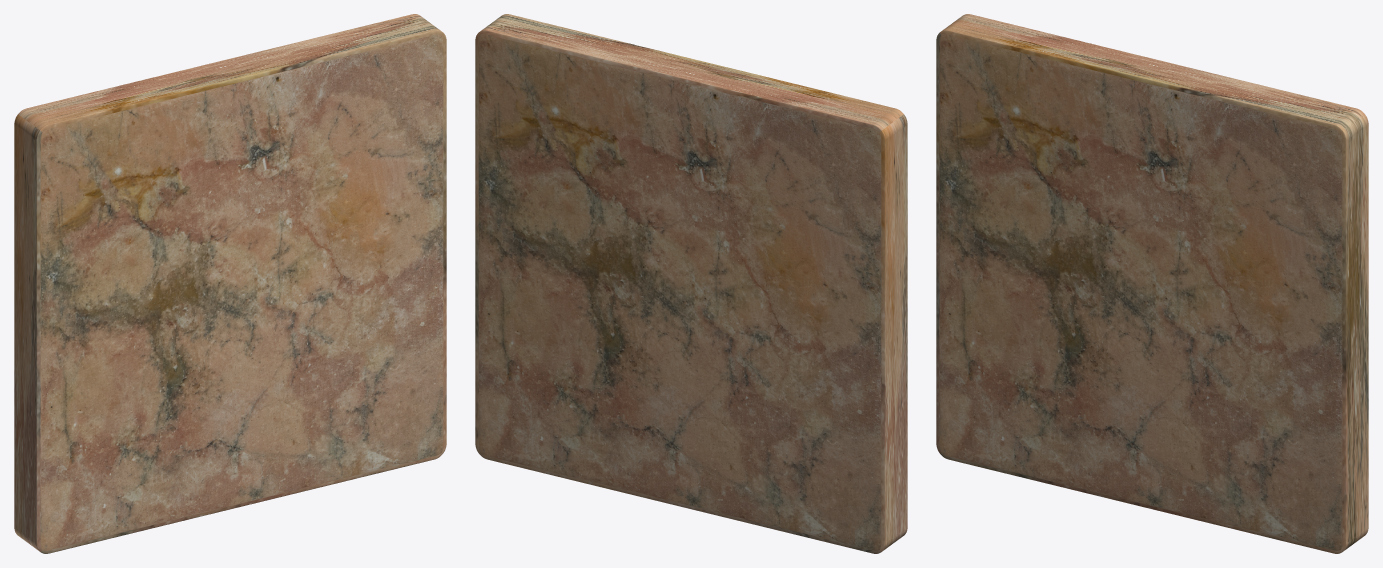
The model's file is limestone-corail.glb.
3 renders of one model, left to right at view 1: azimuth 30°, elevation 25°; view 2: azimuth 150°, elevation 25°; view 3: azimuth 330°, elevation 25°, orthographic.
Visible parts, largest first — view 1: Cube; view 2: Cube; view 3: Cube.
Part boxes in pixels (box(x1,y1,x2,y2)): Cube: box(14, 14, 446, 553); Cube: box(475, 14, 907, 553); Cube: box(936, 14, 1368, 553).
Bounding box in the file's own units: 0.1 × 0.1 × 0.01.
2 materials, 2 textured.
